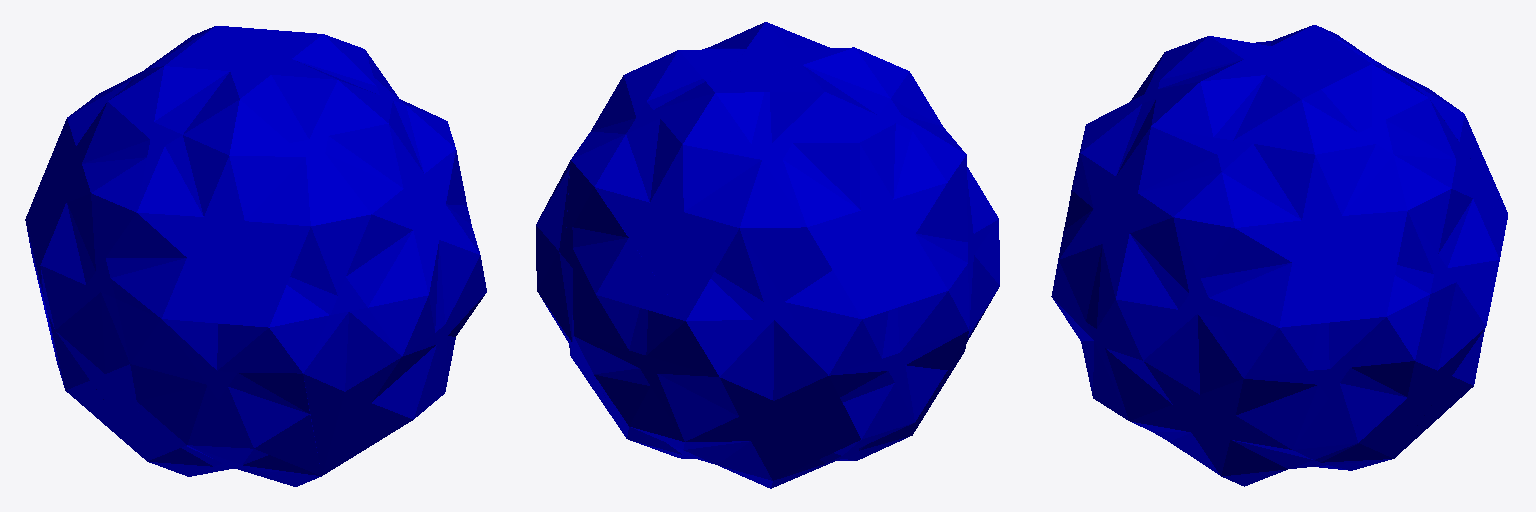
The model's file is rhombicosahedron.obj.
3 renders of one model, left to right at view 1: azimuth 30°, elevation 25°; view 2: azimuth 150°, elevation 25°; view 3: azimuth 270°, elevation 25°, orthographic.
Visible parts, largest first — view 1: Rhombicosahedron; view 2: Rhombicosahedron; view 3: Rhombicosahedron.
Part boxes in pixels (left/top/right/bottom): Rhombicosahedron: left=25, top=26, right=486, bottom=486; Rhombicosahedron: left=536, top=22, right=999, bottom=488; Rhombicosahedron: left=1051, top=25, right=1507, bottom=486.
Size of the model in its own units: 9.37 by 8.7 by 9.22.